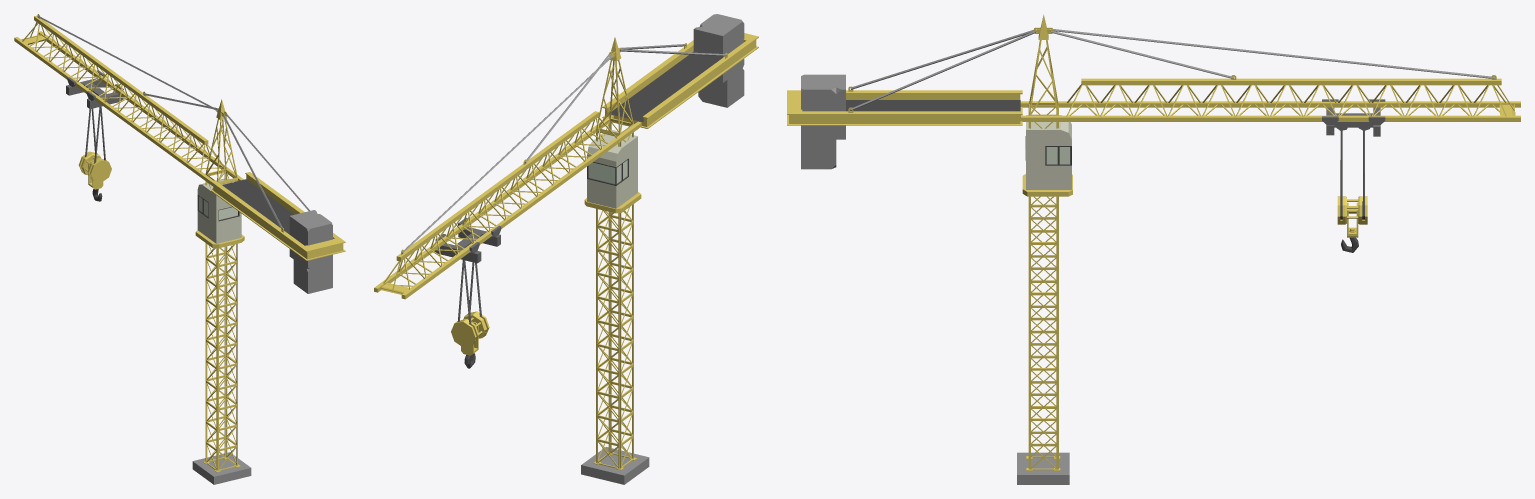
The model's file is crane.glb.
3 views of the same model, side by side, from view 1: azimuth 30°, elevation 25°; view 2: azimuth 150°, elevation 25°; view 3: azimuth 270°, elevation 25° (orthographic). The views are drawn at different scales.
Parts seen in each view (by area): view 1: Crane_Cylinder, Concrete_Cube.007; view 2: Crane_Cylinder, Concrete_Cube.007; view 3: Crane_Cylinder, Concrete_Cube.007.
Part boxes in pixels (left/top/right/bottom): Crane_Cylinder: left=14, top=14, right=345, bottom=472; Concrete_Cube.007: left=192, top=452, right=251, bottom=484; Crane_Cylinder: left=374, top=14, right=758, bottom=470; Concrete_Cube.007: left=581, top=447, right=649, bottom=484; Crane_Cylinder: left=787, top=14, right=1520, bottom=470; Concrete_Cube.007: left=1017, top=452, right=1069, bottom=484.
Size of the model in its own units: 1.6 by 14.61 by 21.13.
